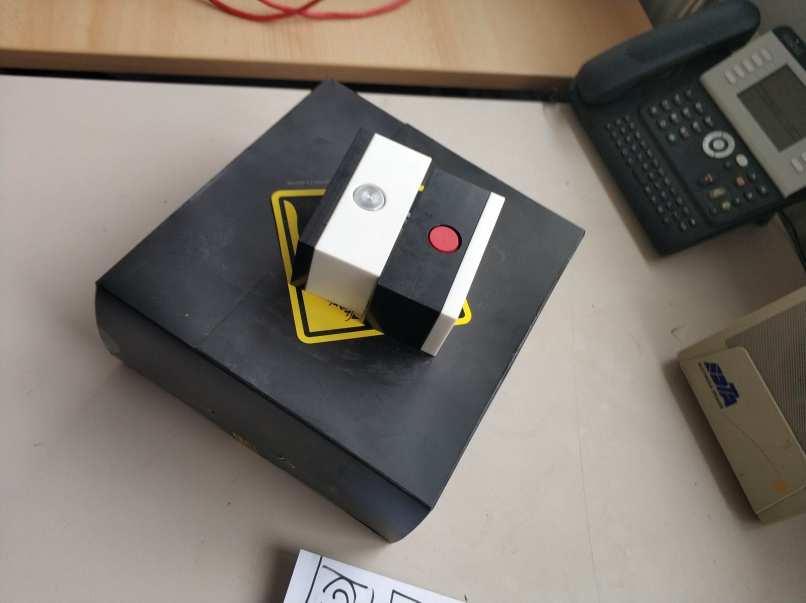black+white+silver: (286, 122, 434, 315)
white+black+red: (362, 161, 509, 359)
